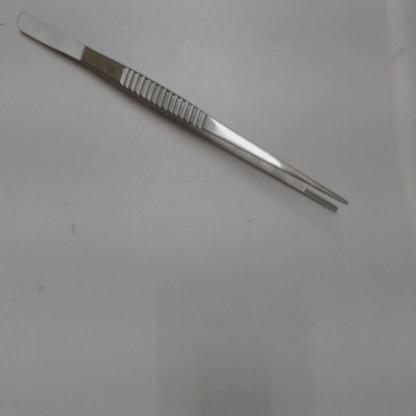DeBakey Dissector: (6, 5, 378, 239)
